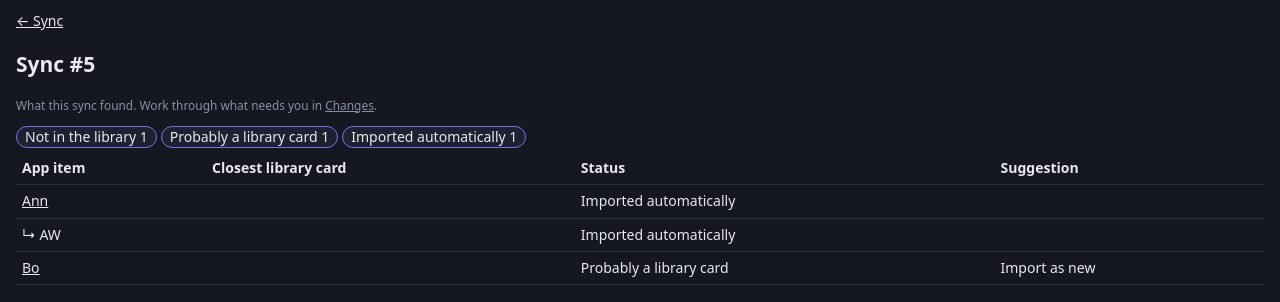
Test: the auto_imported chip shows the auto-imported rows, with the same label on world books
Click the button "Imported automatically 1". click: [434, 137]
box: [342, 126, 526, 148]
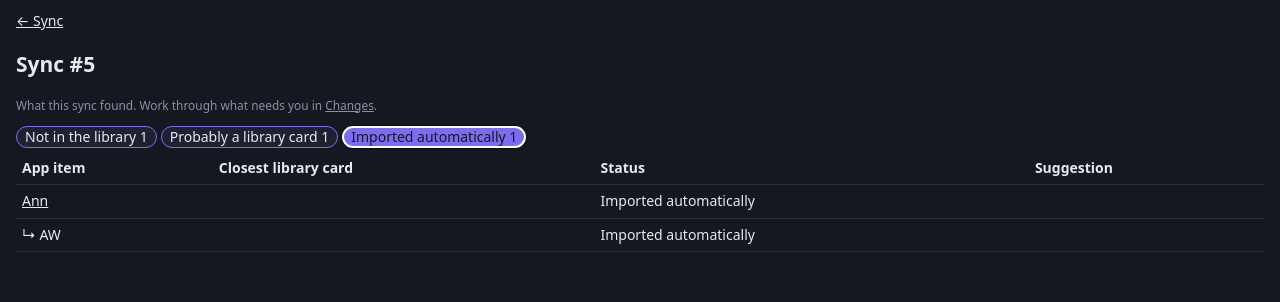
Expected: the link "Ann" is shown, [22, 191, 48, 210]
Expected: the link "Bo" is gone
Expected: the text "Imported automatically" is shown 2 times, [594, 185, 1029, 218]; [594, 218, 1029, 251]
